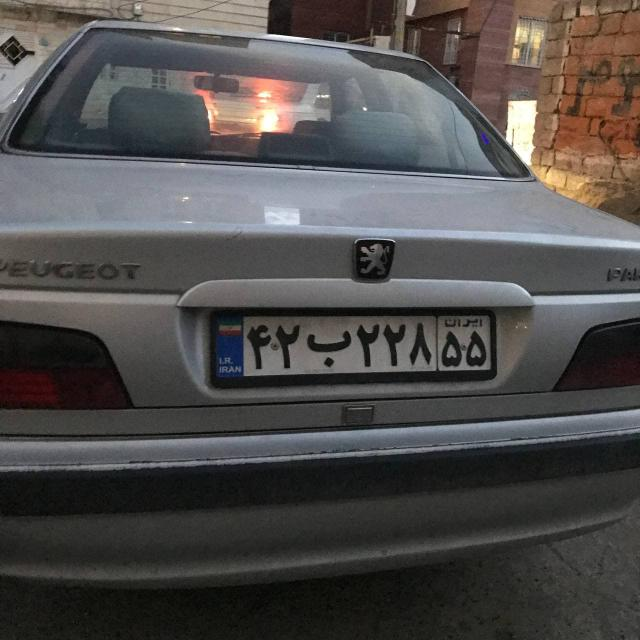Plates: (215, 308, 493, 378)
